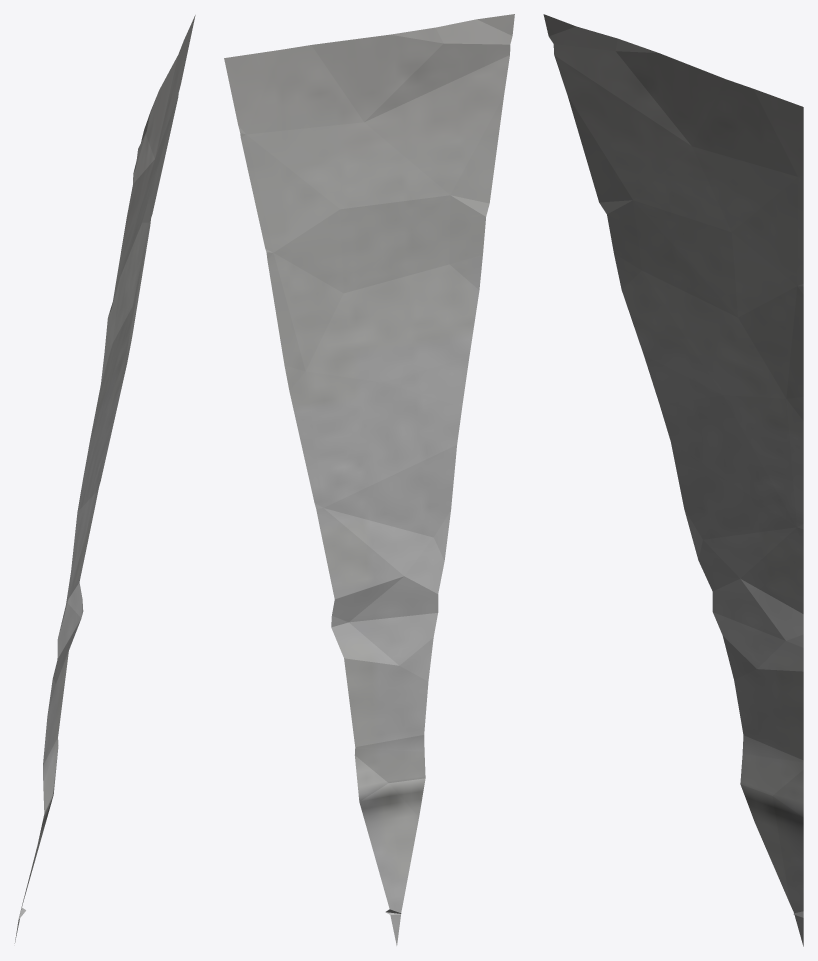
3 views of the same model, side by side, from view 1: azimuth 30°, elevation 25°; view 2: azimuth 150°, elevation 25°; view 3: azimuth 270°, elevation 25° (orthographic). The views are drawn at different scales.
Size of the model in its own units: 0.0808 by 0.3778 by 0.0954.
1 material, 1 textured.
